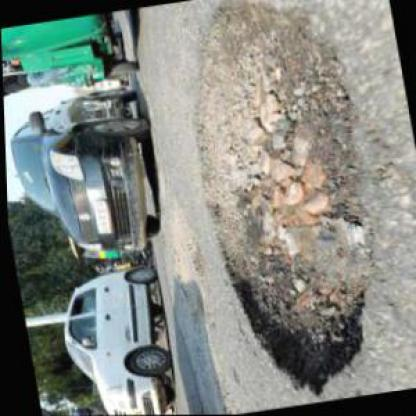pothole: (165, 0, 405, 409), (158, 206, 207, 300)
